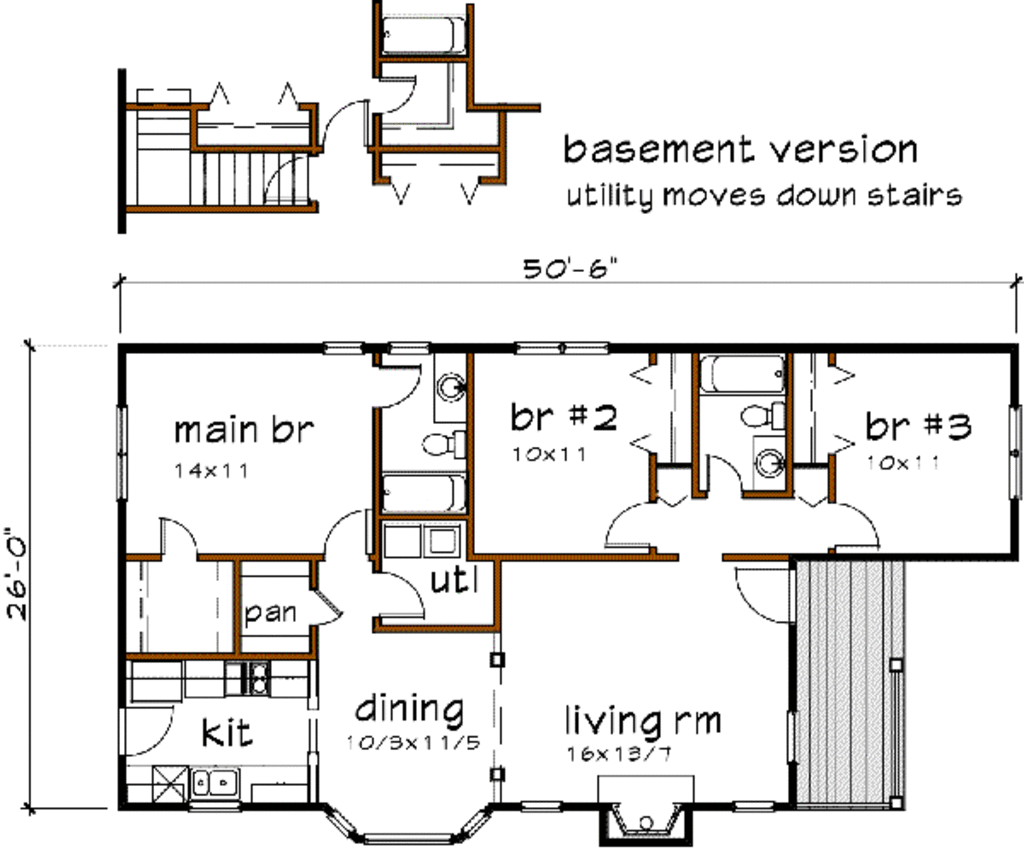door: (728, 567, 804, 633), (832, 500, 902, 555), (147, 502, 208, 561), (262, 150, 322, 209), (597, 494, 654, 551), (119, 705, 177, 756), (374, 568, 431, 617), (370, 359, 423, 409), (324, 506, 369, 563), (323, 97, 372, 146), (306, 585, 345, 629), (376, 72, 411, 114)
large_sink: (407, 421, 469, 468), (737, 401, 783, 438)
small_sink: (422, 354, 473, 422), (757, 433, 787, 501)
stairs: (126, 79, 316, 210)
tub: (694, 348, 791, 397), (379, 9, 470, 58), (377, 465, 468, 513)
twin_sink: (182, 761, 247, 815)
window: (519, 338, 611, 358), (322, 798, 358, 838), (362, 831, 453, 846), (1009, 396, 1021, 503), (452, 809, 494, 839), (116, 405, 128, 505), (522, 797, 570, 814), (385, 339, 431, 356), (326, 340, 373, 356), (737, 797, 781, 813)
